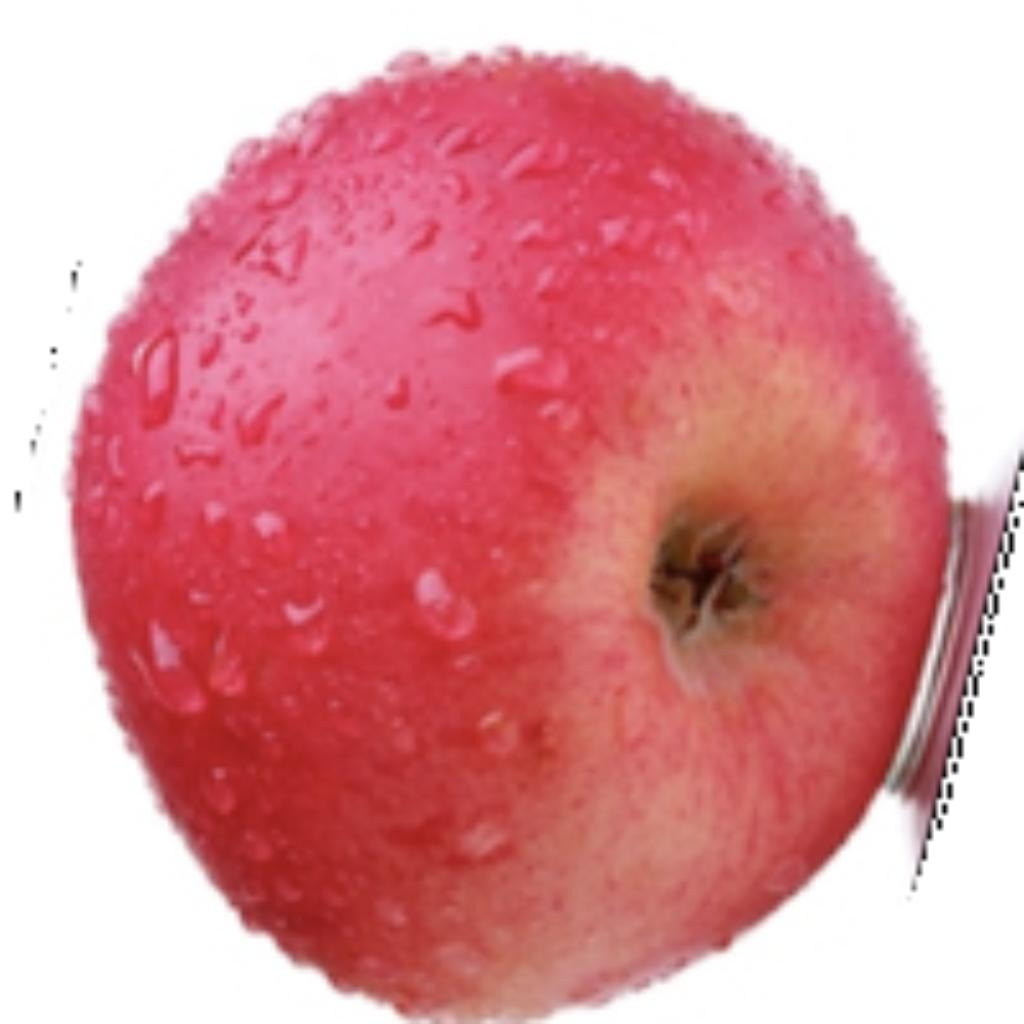apple: (56, 36, 1019, 1019)
